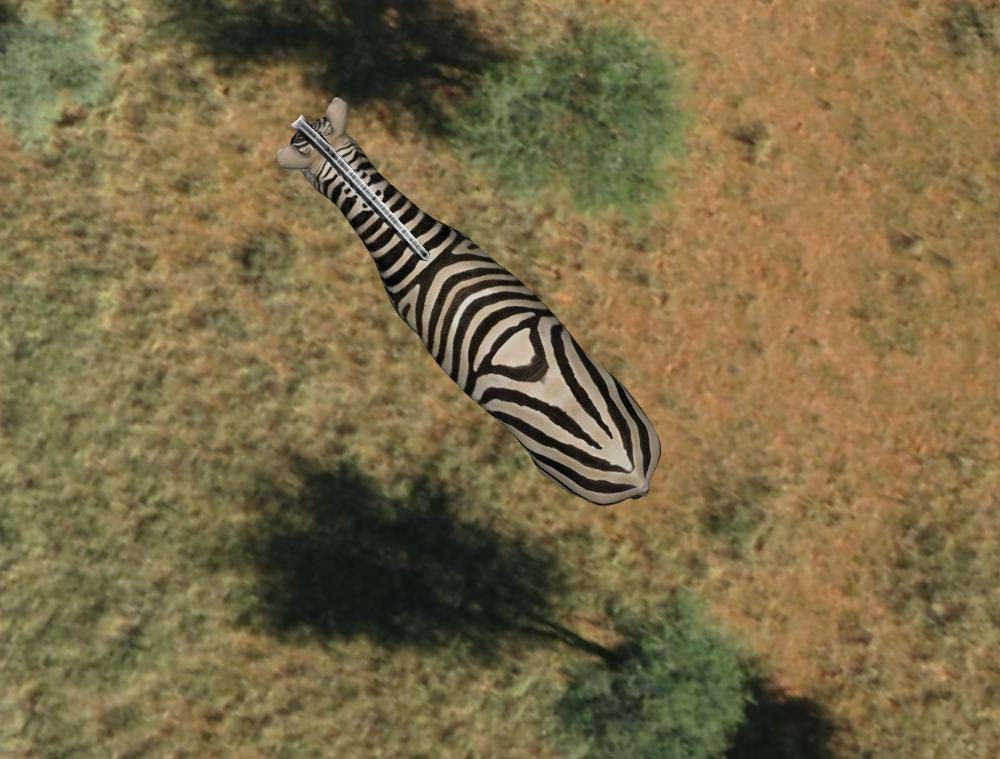zebra: (275, 89, 663, 515)
